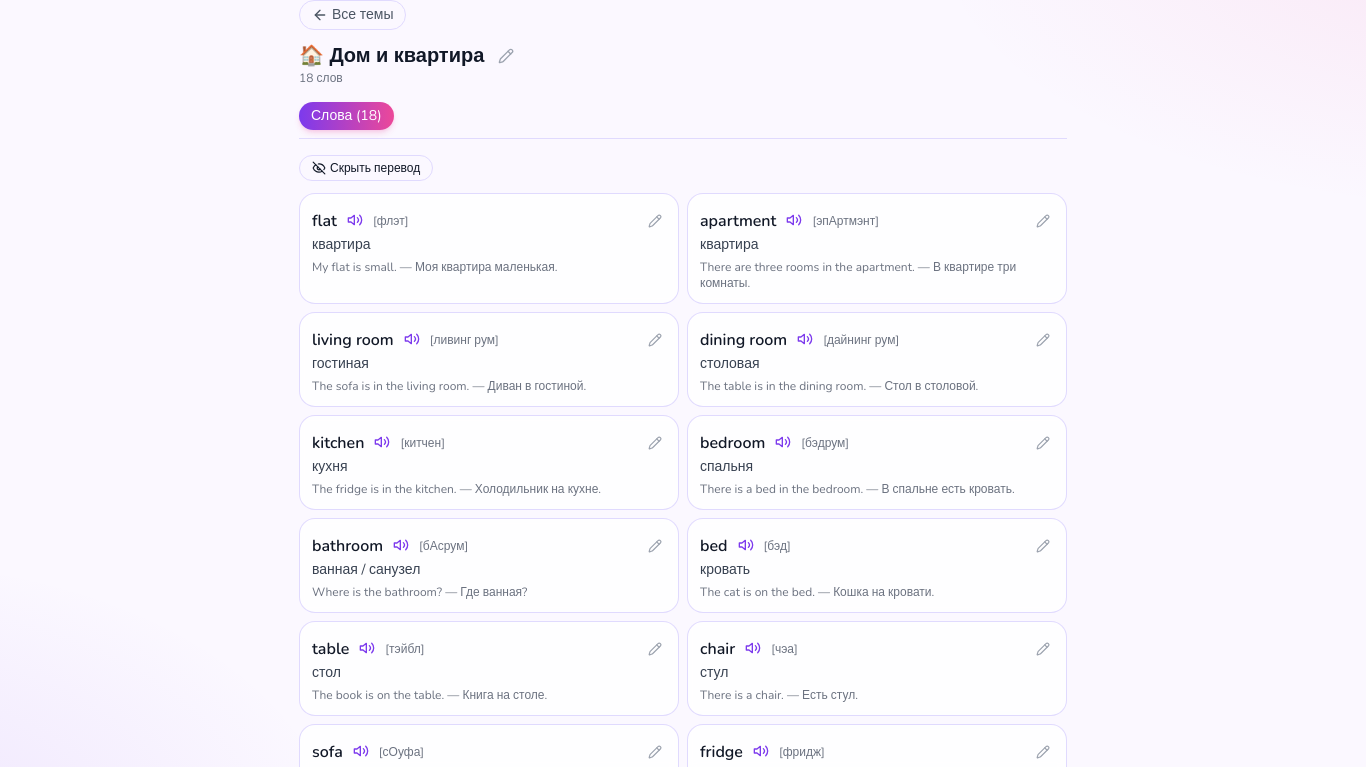
it: TopicPage topic editing › renames a topic and changes its icon
Step 1. Click the button named "Изменить тему" → {"x": 506, "y": 56}, box [492,42,520,70]
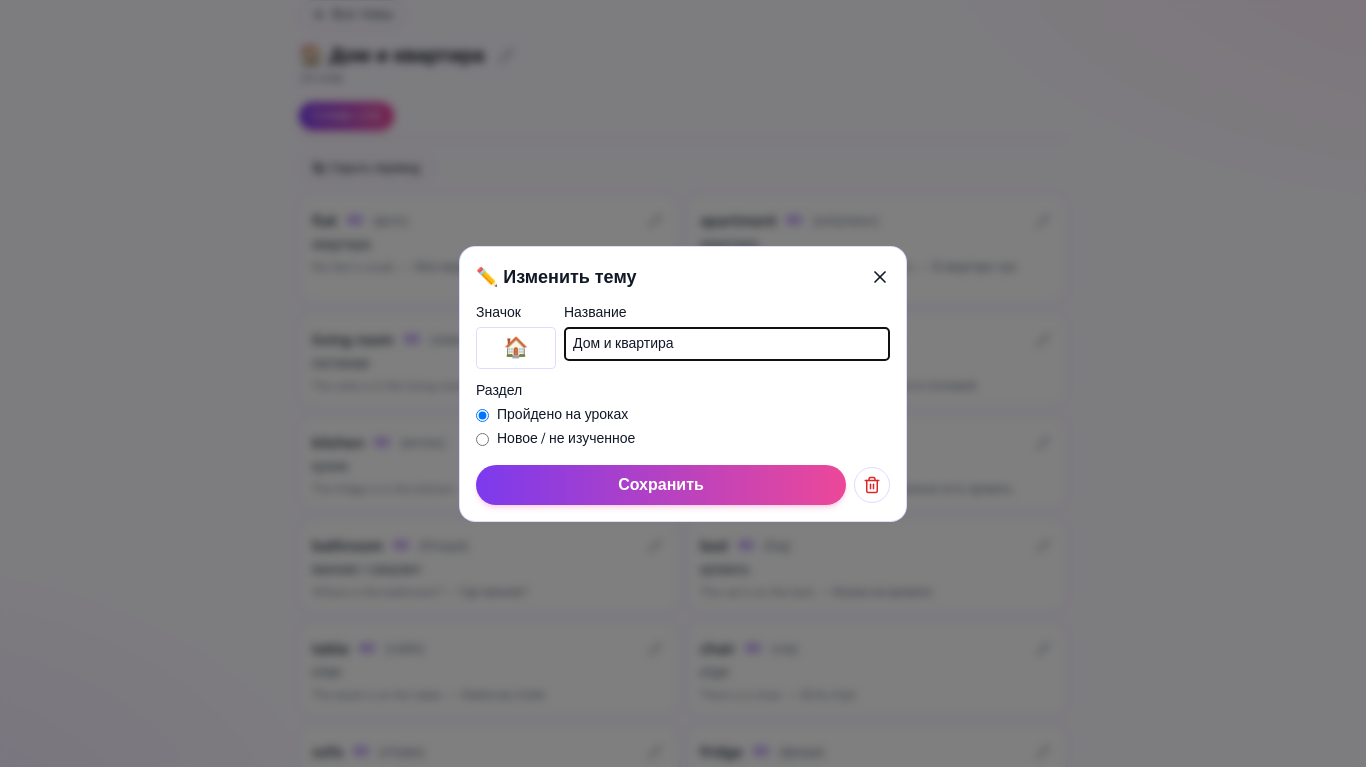
Step 2. Replace the text in the field labelled "Название" with "Моя квартира" → {"x": 727, "y": 344}, box [564,327,890,361]
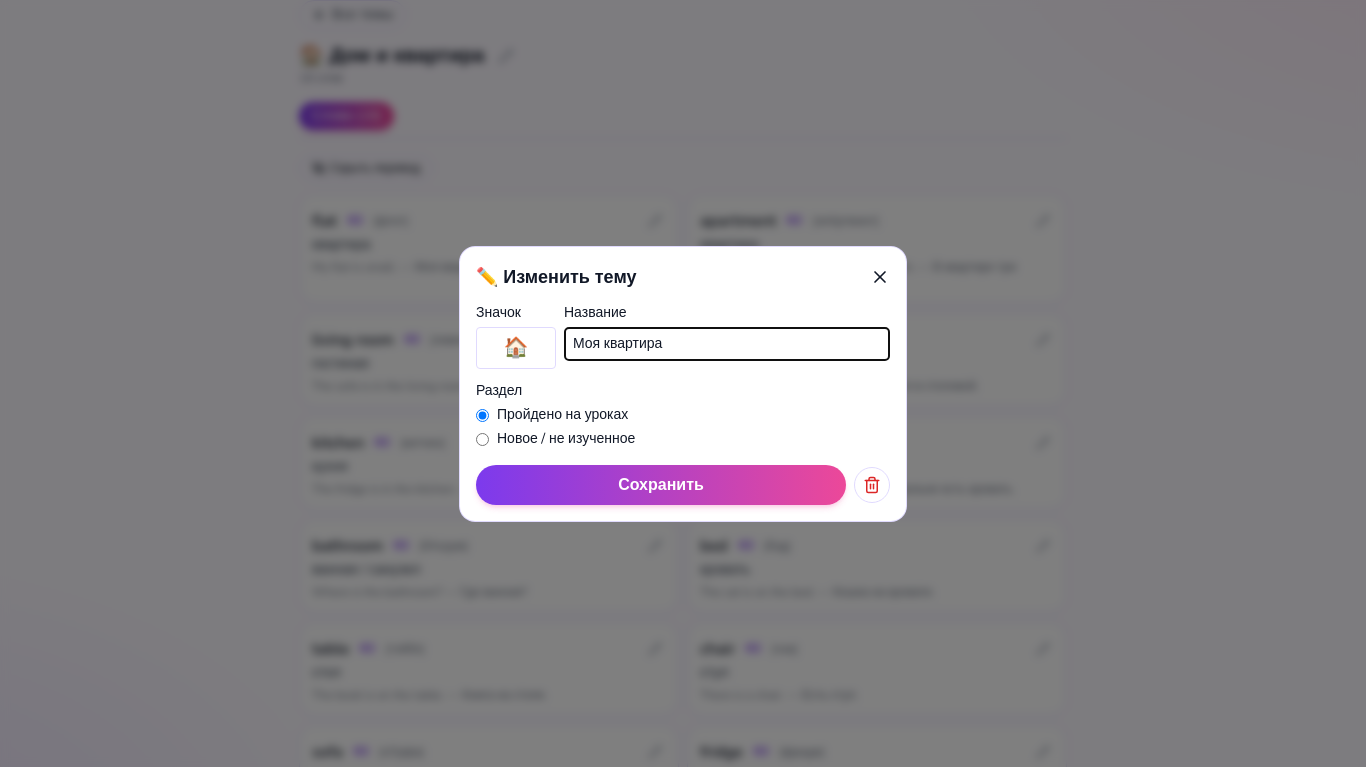
Step 3. Replace the text in the field labelled "Значок" with "🛋️" → {"x": 516, "y": 348}, box [476,327,556,369]
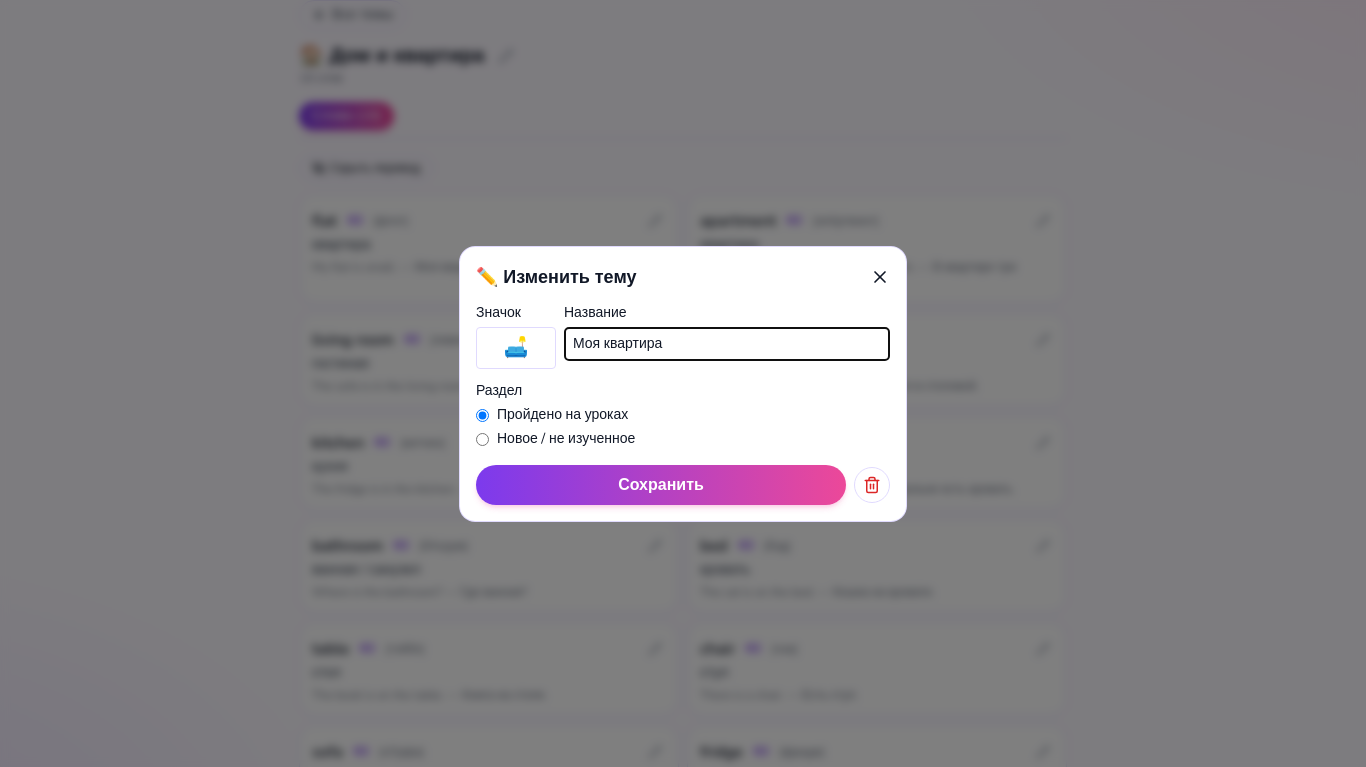
Step 4. Click the button "Сохранить" → {"x": 661, "y": 485}, box [476,465,846,505]
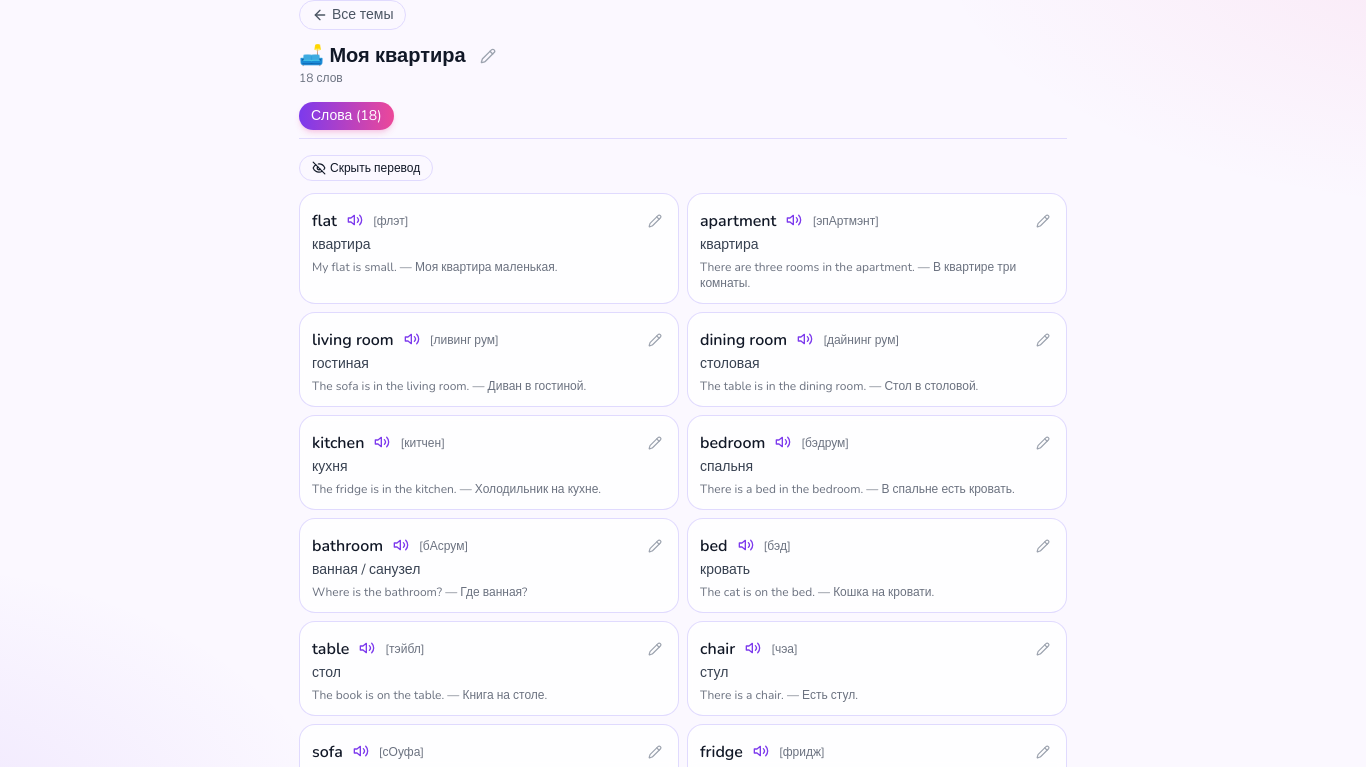
Check: the heading "🛋️ Моя квартира" is shown, box [299,42,466,70]
